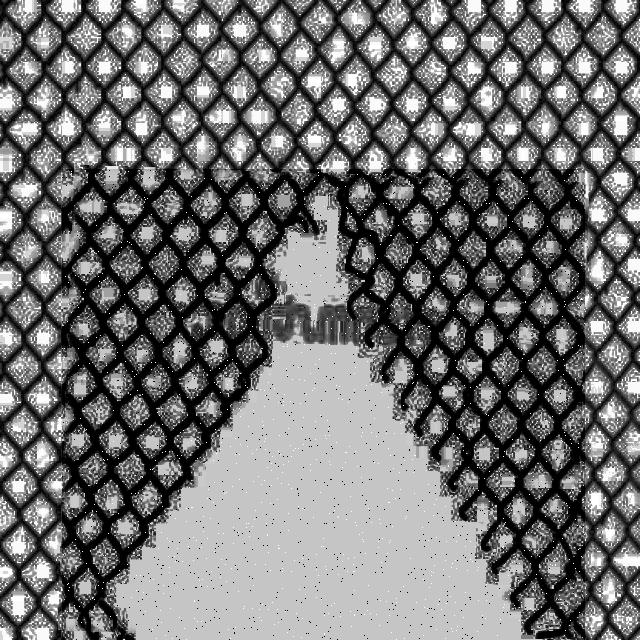anomaly-fence: (62, 169, 585, 640)
